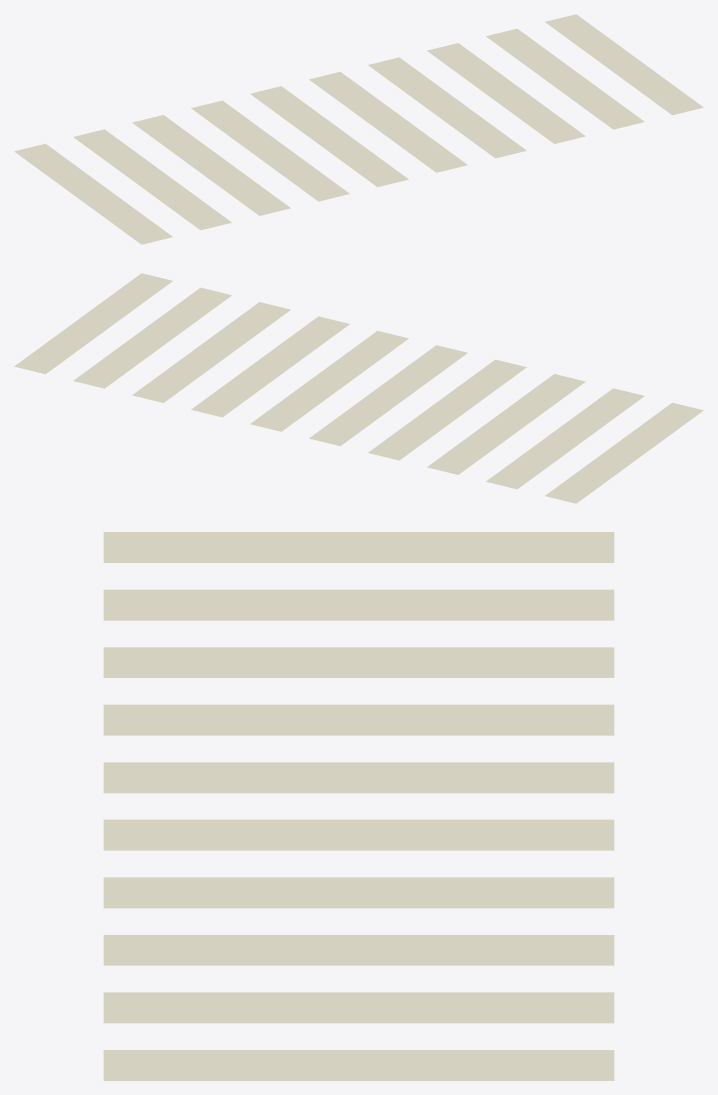
The model's file is Crosswalk.obj.
3 views of the same model, one above another, from view 1: azimuth 30°, elevation 25°; view 2: azimuth 150°, elevation 25°; view 3: azimuth 270°, elevation 25° (orthographic). The views are drawn at different scales.
Visible parts, largest first — view 1: Crosswalk; view 2: Crosswalk; view 3: Crosswalk.
Part boxes in pixels (bbox=[...]): Crosswalk: bbox=[14, 14, 703, 244]; Crosswalk: bbox=[14, 273, 703, 503]; Crosswalk: bbox=[103, 532, 614, 1080].
Bounding box in the file's own units: 7.63 × 0 × 3.
